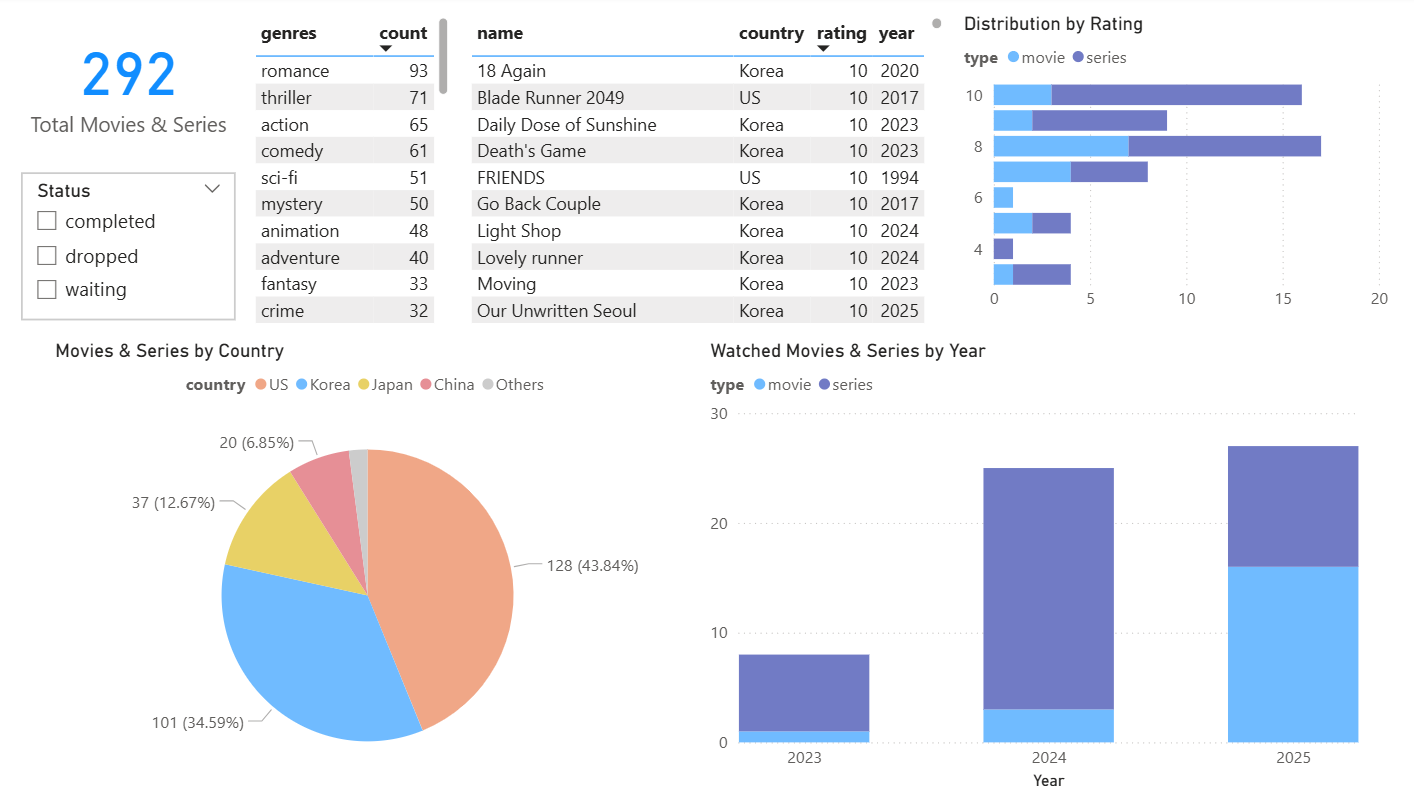

This screenshot's page, from the dashboard's own definition file:
{"tool":"powerbi","page":{"name":"Dashboard","canvas":[1280,720],"ordinal":0},"visuals":[{"type":"card","fields":{"Values":["Count(db2.name)"]},"box":[22.1,15.1,194.2,123.3],"z":0},{"type":"slicer","fields":{"Values":["db2.status"]},"box":[22.3,159.2,193.8,133.8],"z":1000},{"type":"pieChart","title":"Movies & Series by Country","fields":{"Category":["db2.country"],"Y":["Count(db2.name)"]},"box":[48.5,309.7,573.5,410.5],"z":2000},{"type":"columnChart","title":"Watched Movies & Series by Year","fields":{"Category":["db2.watched_year"],"Series":["db2.type"],"Y":["Count(db2.name)"]},"box":[639.4,309.7,594.6,410.5],"z":3000},{"type":"tableEx","fields":{"Values":["db2.name","db2.country","Sum(db2.rating)","Sum(db2.year)"]},"box":[422.5,15,435,286.2],"z":4000},{"type":"tableEx","fields":{"Values":["db2.genres","db2.Genres Count"]},"box":[227.5,15,185,286.2],"z":5000},{"type":"barChart","title":"Distribution by Rating","fields":{"Category":["db2.rating"],"Y":["Count(db2.name)"],"Series":["db2.type"]},"box":[867.9,14.7,392.2,278.4],"z":6000}]}

Visuals, with their boxes in screenshot pixels (x1, y1, x2, y2), scaled from the page's 1280x720 canvas onto the 1414x792 screenshot:
card - Count(db2.name): pyautogui.locateOnScreen(24, 17, 239, 152)
slicer - db2.status: pyautogui.locateOnScreen(25, 175, 239, 322)
"Movies & Series by Country" pieChart: pyautogui.locateOnScreen(54, 341, 687, 791)
"Watched Movies & Series by Year" columnChart: pyautogui.locateOnScreen(706, 341, 1363, 791)
tableEx - db2.name x db2.country: pyautogui.locateOnScreen(467, 16, 947, 331)
tableEx - db2.genres x db2.Genres Count: pyautogui.locateOnScreen(251, 16, 456, 331)
"Distribution by Rating" barChart: pyautogui.locateOnScreen(959, 16, 1392, 322)
